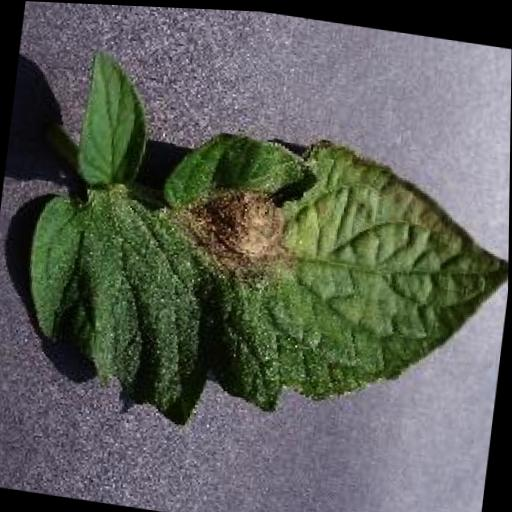Late Blight: (14, 38, 512, 469)
